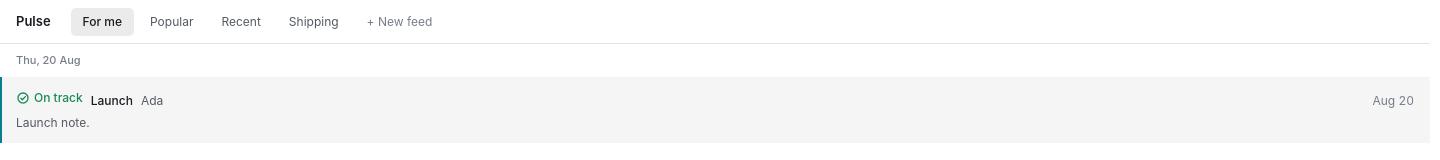
Scenario: Pulse › lists a personal feed as a tab and filters to its projects
Step 1. Click the tab "Shipping" → click(314, 22), box [277,8,351,36]
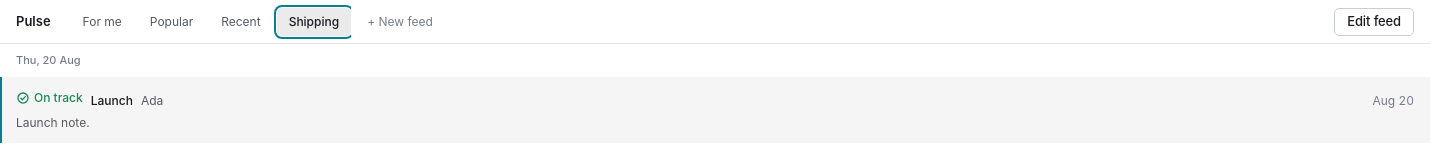
Expected: the text "Launch note." is shown, [16,114,90,130]
Now the button "Edit feed" is shown, box [1334,8,1414,36]
